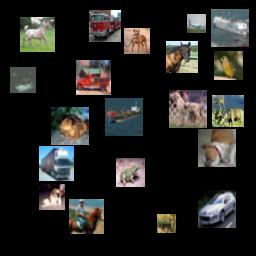airplane: (187, 14, 206, 33)
automobile: (198, 190, 236, 228)
bird: (214, 51, 243, 80)
cat: (10, 67, 36, 93)
deer: (212, 95, 244, 127), (157, 214, 176, 233)
dog: (169, 90, 207, 128), (198, 129, 236, 167), (124, 28, 150, 54), (39, 184, 65, 210)
frog: (51, 107, 89, 145), (116, 158, 145, 187)
ship: (105, 98, 143, 136), (211, 9, 249, 47)
truck: (76, 60, 111, 95), (39, 146, 74, 181), (89, 10, 121, 42)
